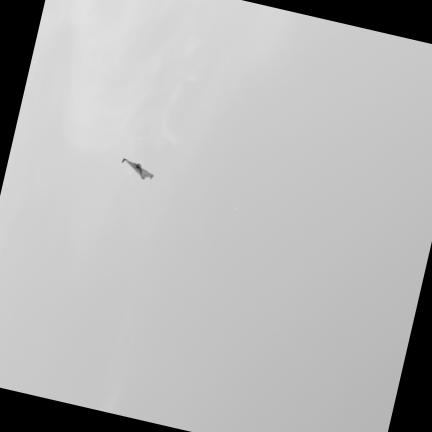Shahed: (122, 159, 152, 178)
